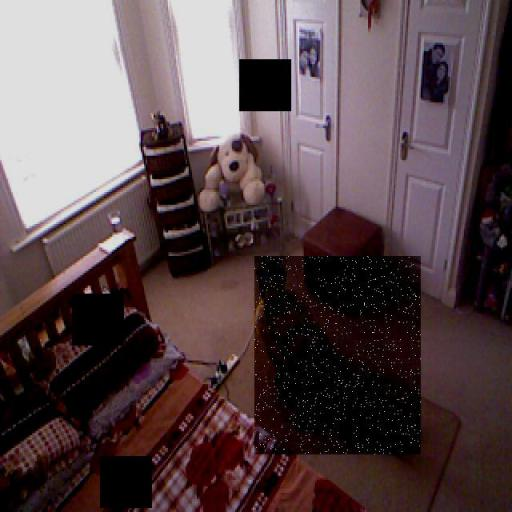Fall: (254, 256, 421, 454)
